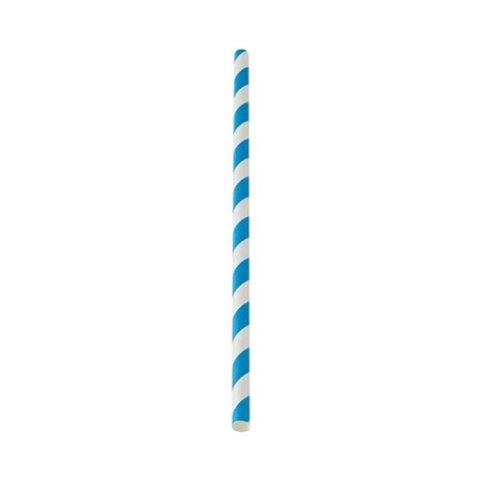sedotan: (234, 50, 250, 432)
